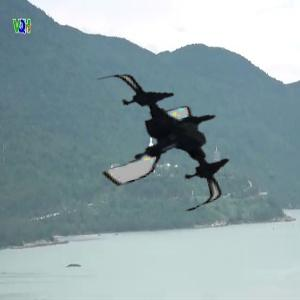drone: (89, 65, 242, 218)
